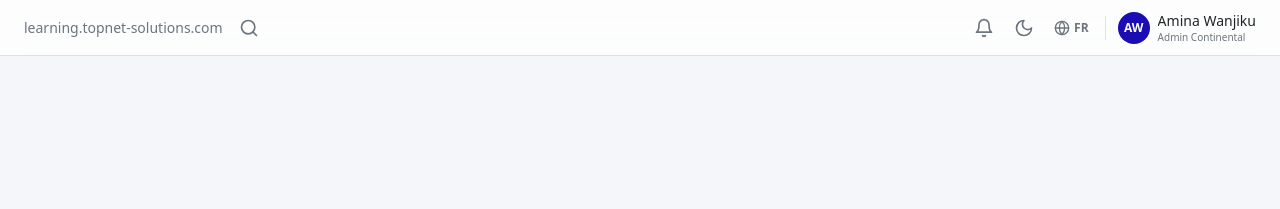
Test: Header › opens user menu on avatar click
What coordinates should you click on to do the following:
click the button with aria-label "User menu"
I would click on:
 (1185, 28)
Its box is [1114,11,1256,44].
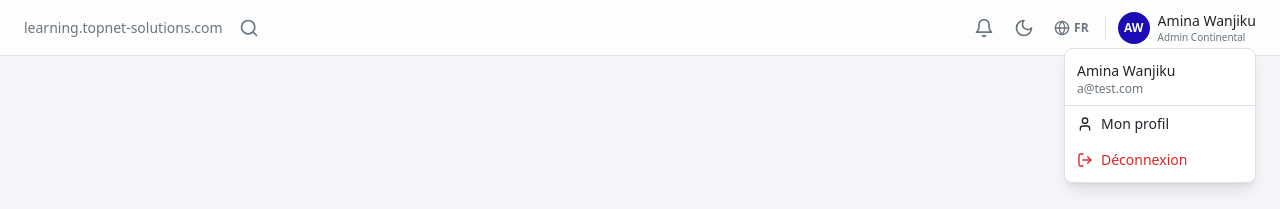
Expected: the button "Mon profil" is shown, [1065,106,1255,142]
Expected: the button "Déconnexion" is shown, [1065,142,1255,178]
